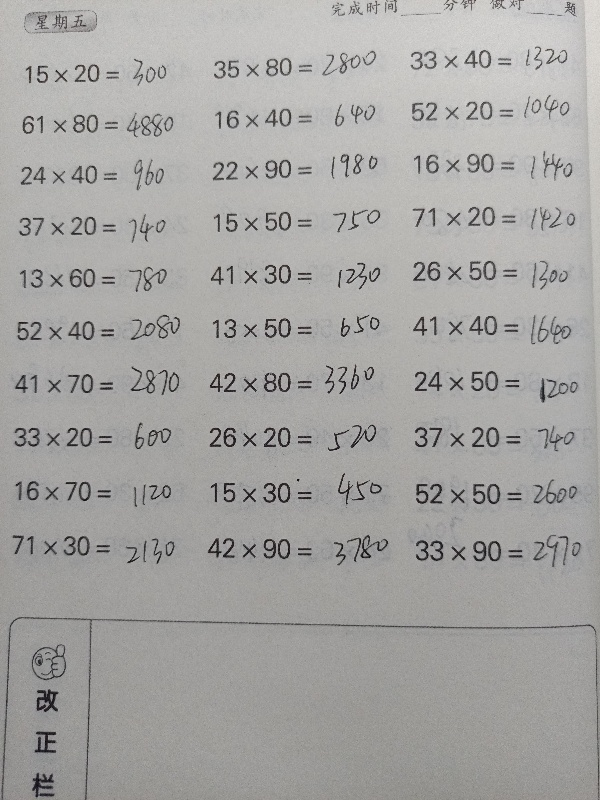equation: (1, 606, 162, 800), (412, 524, 585, 574), (405, 307, 585, 353), (201, 359, 381, 404), (407, 472, 587, 512), (203, 472, 383, 512), (13, 106, 193, 146), (402, 89, 582, 127), (205, 47, 385, 85), (198, 530, 378, 566), (3, 527, 183, 563), (406, 419, 586, 455), (406, 363, 586, 399), (201, 256, 381, 292), (404, 198, 584, 234), (6, 473, 186, 508), (201, 420, 381, 455), (6, 420, 186, 455), (7, 366, 187, 401), (9, 313, 189, 348), (204, 311, 384, 346), (11, 260, 191, 295), (404, 253, 584, 288), (204, 204, 384, 239), (11, 157, 191, 192), (405, 146, 585, 181), (402, 41, 582, 76), (10, 209, 190, 243), (204, 152, 384, 186), (206, 101, 386, 135), (16, 57, 196, 90)
